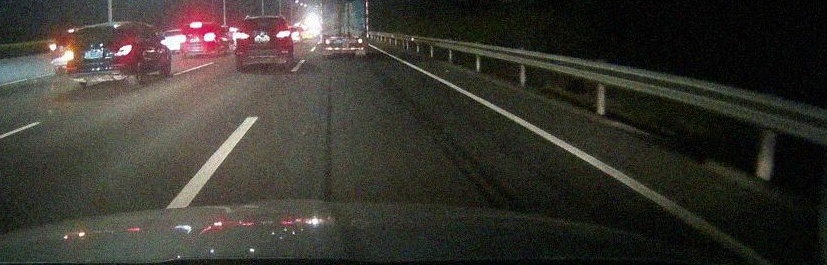L_light: (66, 50, 75, 61), (236, 32, 249, 39), (180, 35, 186, 42)
R_light: (113, 44, 132, 56), (276, 30, 290, 38), (203, 34, 215, 41)
T_light: (190, 24, 201, 27), (92, 29, 103, 31), (260, 18, 270, 20)
night-brake: (179, 23, 218, 57)
night-left: (66, 23, 134, 89)
night-no: (236, 17, 292, 71)
